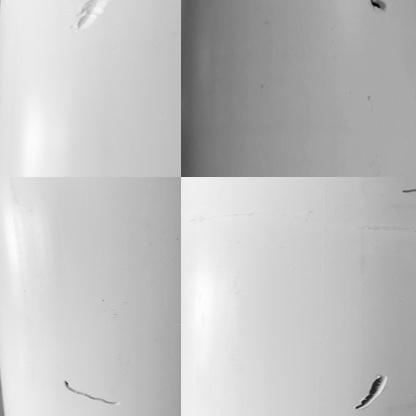fengxi: (58, 379, 113, 407)
kongdong: (353, 373, 388, 407), (367, 1, 394, 13)
sunshang: (73, 1, 108, 29)
